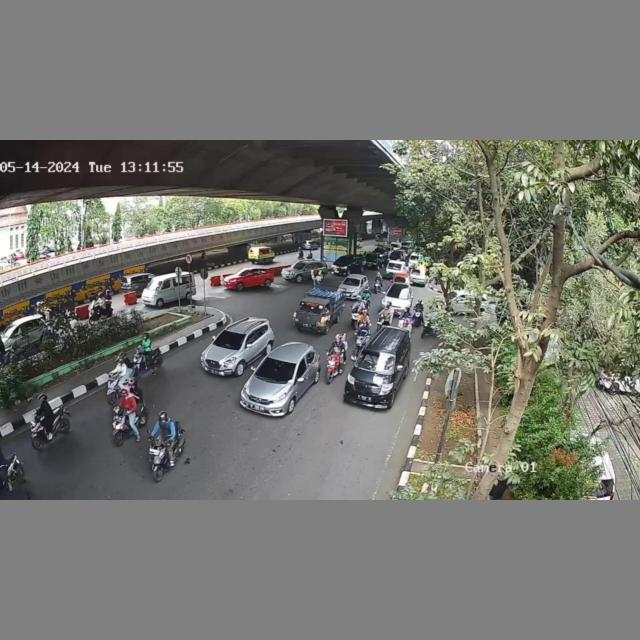windshield: (253, 357, 300, 382), (354, 348, 396, 374), (213, 329, 244, 349)
